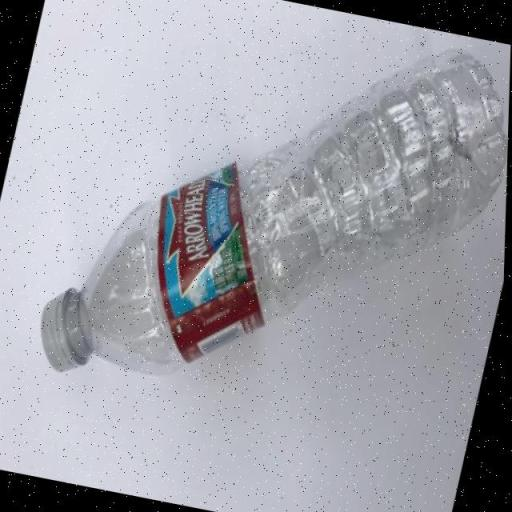plastic: (27, 0, 512, 450)
